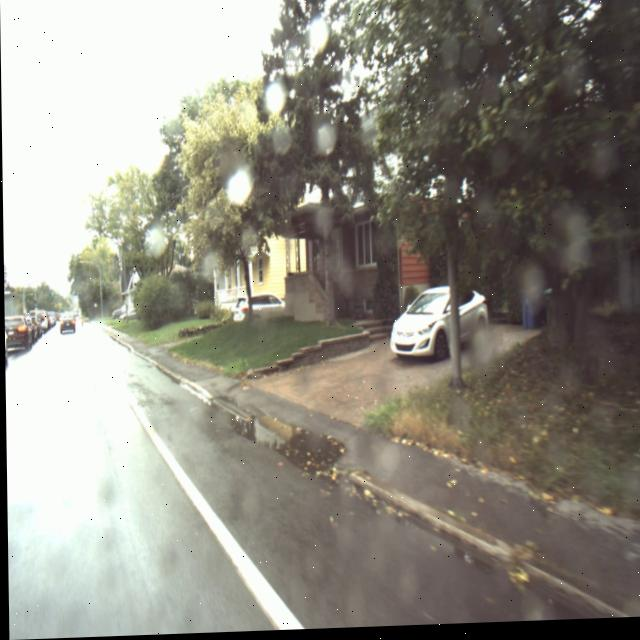car: (386, 287, 487, 364), (233, 295, 285, 327), (4, 316, 31, 351), (27, 313, 42, 343), (32, 310, 49, 335), (59, 312, 75, 335), (119, 310, 137, 323)
